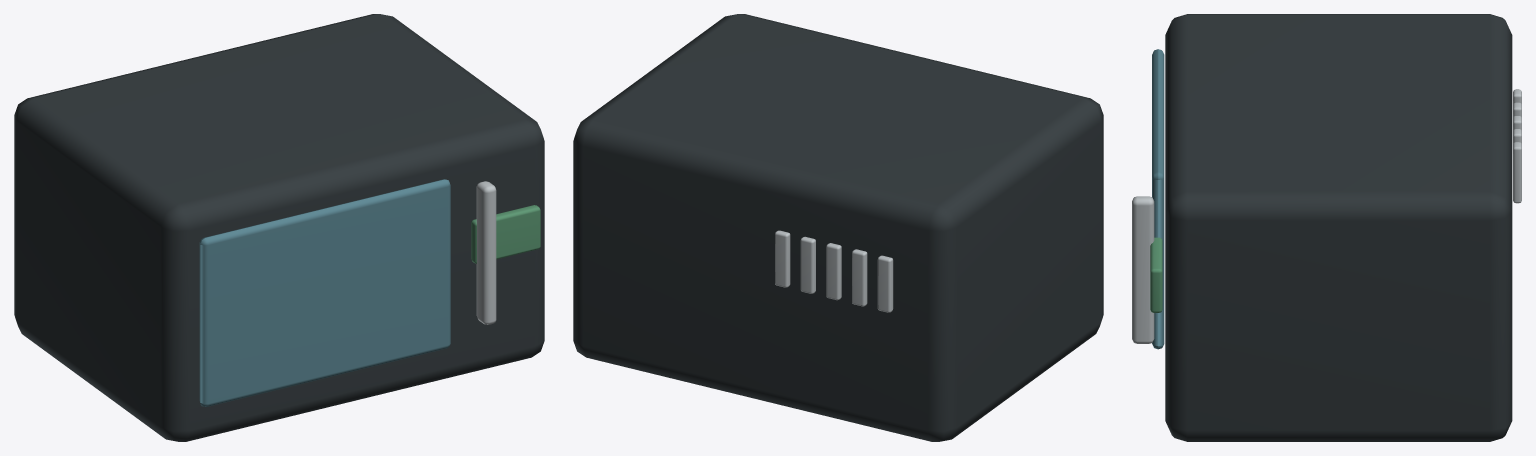
File: microwave_black.glb
3 renders of one model, left to right at view 1: azimuth 30°, elevation 25°; view 2: azimuth 150°, elevation 25°; view 3: azimuth 270°, elevation 25°, orthographic. The views are drawn at different scales.
Parts seen in each view (by area): view 1: microwave, door window, handle, digital display; view 2: microwave, vent, vent.001, vent.002, vent.004, vent.003; view 3: microwave, handle, door window, digital display, vent.004.
Boxes of the visible parts, x1,y1,x2,y2 form: microwave: (14,14,544,441); door window: (199,179,450,406); handle: (476,181,496,324); digital display: (471,205,540,263); microwave: (573,14,1103,441); vent: (877,255,893,312); vent.001: (852,249,867,306); vent.002: (826,243,841,300); vent.004: (775,230,790,287); vent.003: (800,236,815,293); microwave: (1165,14,1512,441); handle: (1132,196,1154,343); door window: (1152,49,1164,349); digital display: (1150,237,1162,312); vent.004: (1513,142,1521,203).
Size of the model in its own units: 0.52 by 0.31 by 0.4385.
